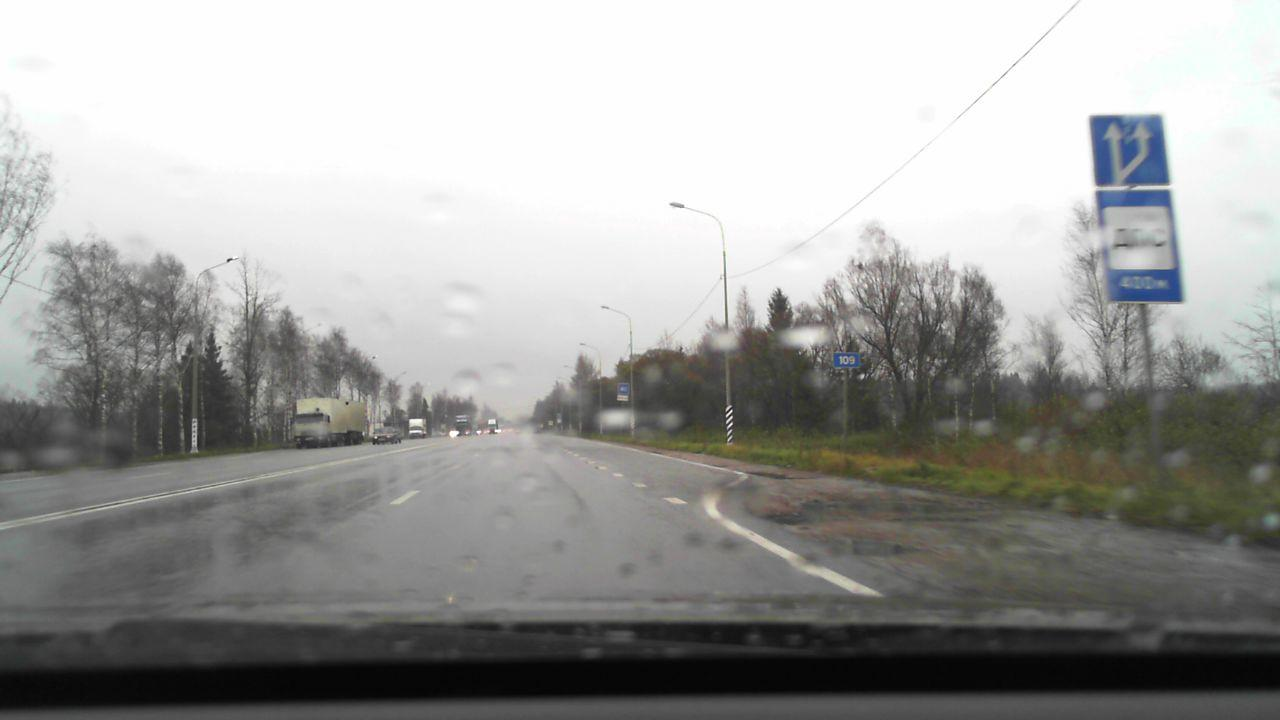5_15_3: (1087, 111, 1175, 190)
7_12: (1097, 191, 1183, 302)
